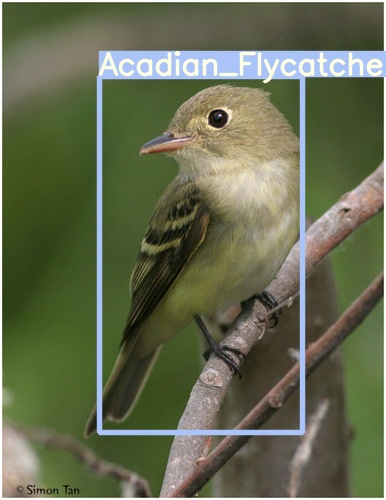Acadian_Flycatcher: (82, 82, 310, 439)
